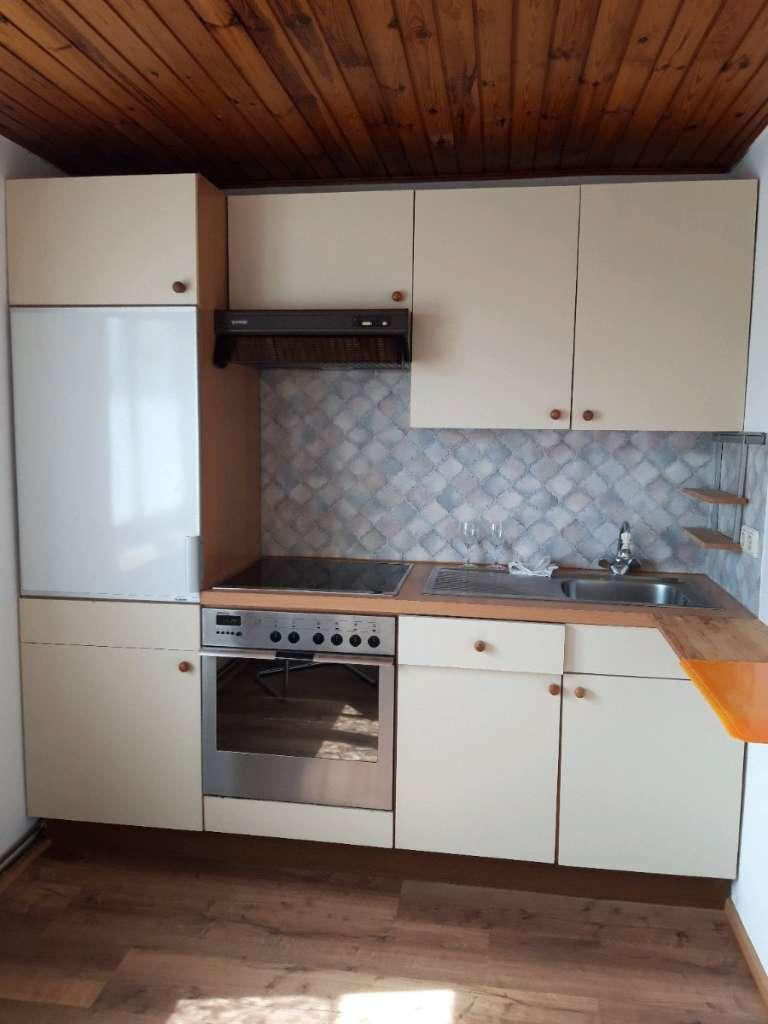cabinet_door: (582, 201, 756, 435), (415, 188, 573, 428), (568, 676, 749, 868), (23, 642, 205, 827), (402, 672, 564, 851), (0, 178, 198, 308), (228, 200, 417, 310), (404, 623, 566, 676)
handle: (469, 633, 493, 659), (170, 273, 192, 301), (174, 655, 196, 683), (573, 680, 592, 707), (545, 677, 562, 705), (580, 404, 599, 427), (547, 402, 566, 424), (390, 287, 408, 305)
